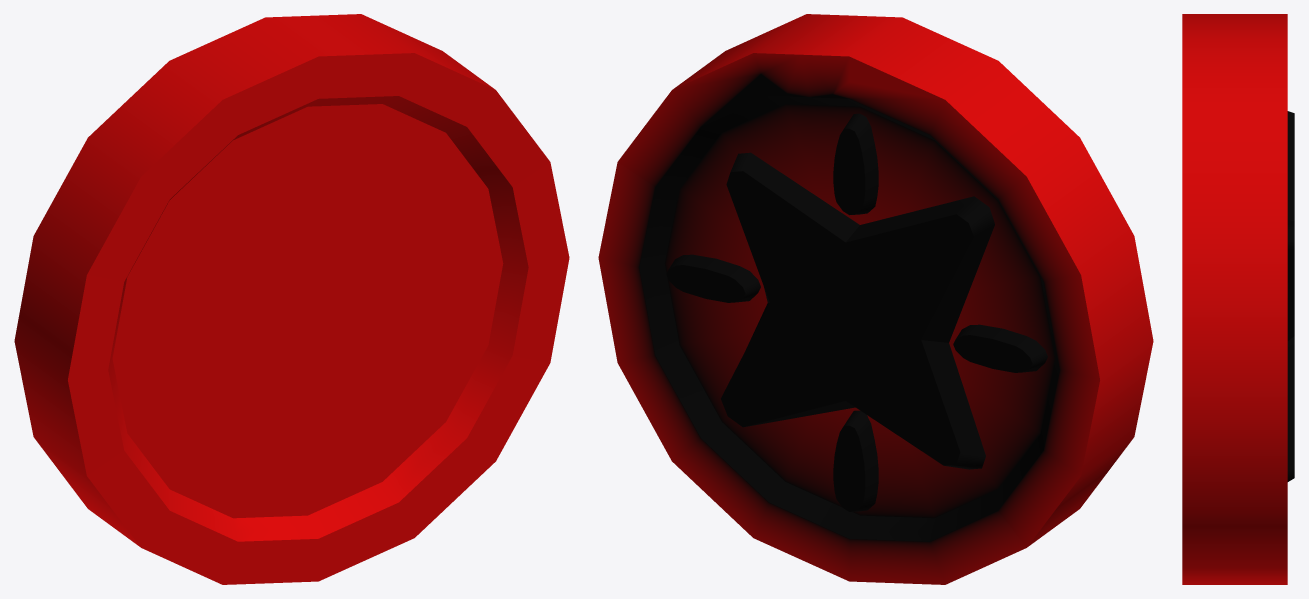
Rendered from Mesh_Adventure_Gold_SM.fbx.
The picture shows the model from 3 angles, left to right: view 1: azimuth 30°, elevation 25°; view 2: azimuth 150°, elevation 25°; view 3: azimuth 270°, elevation 25°; orthographic projection.
Parts seen in each view (by area): view 1: Mesh_Adventure_Gold; view 2: Mesh_Adventure_Gold; view 3: Mesh_Adventure_Gold.
Boxes of the visible parts, x1=… form: Mesh_Adventure_Gold: x1=14, y1=14, x2=569, y2=584; Mesh_Adventure_Gold: x1=598, y1=14, x2=1153, y2=584; Mesh_Adventure_Gold: x1=1182, y1=14, x2=1294, y2=584.
Size of the model in its own units: 43.12 by 43.12 by 8.48.
